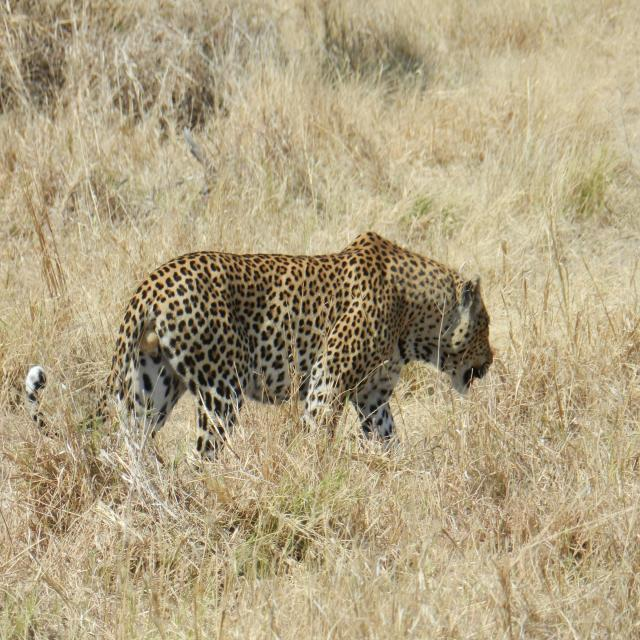Leopard: (31, 224, 497, 472)
